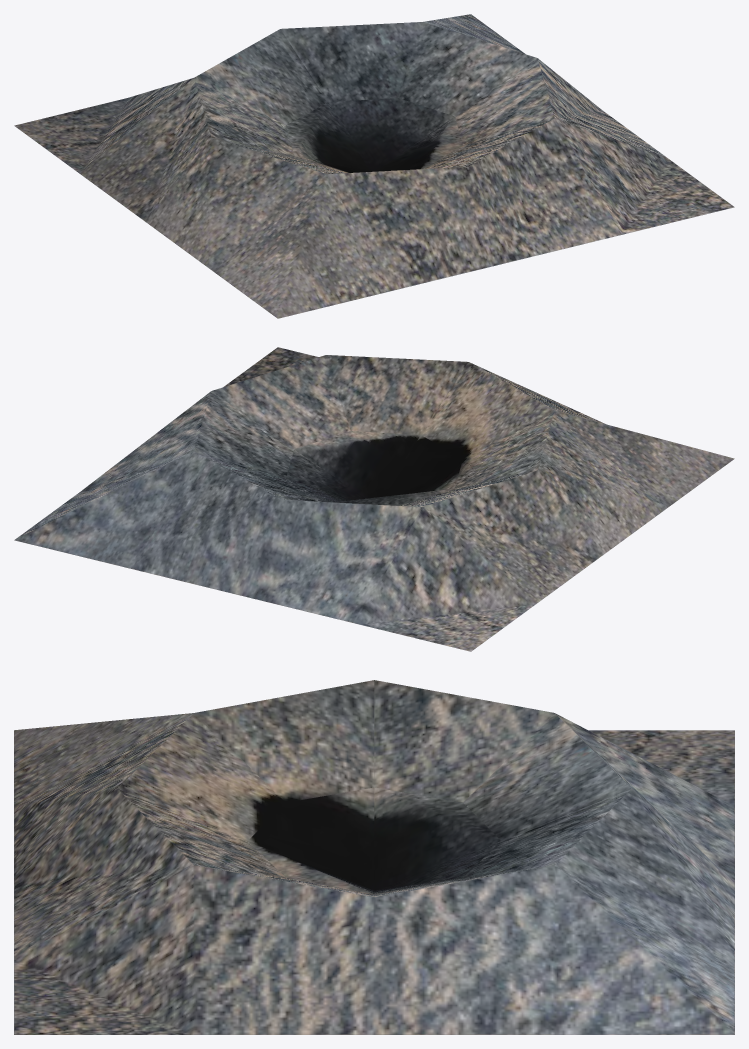
The model's file is trou jeyser.fbx.
The picture shows the model from 3 angles, top to bottom: view 1: azimuth 30°, elevation 25°; view 2: azimuth 150°, elevation 25°; view 3: azimuth 270°, elevation 25°; orthographic projection. The views are drawn at different scales.
Visible parts, largest first — view 1: Plane; view 2: Plane; view 3: Plane.
Boxes of the visible parts, bbox=[...] form: Plane: bbox=[14, 14, 734, 318]; Plane: bbox=[14, 347, 734, 651]; Plane: bbox=[14, 680, 734, 1034].
Bounding box in the file's own units: 32 × 4.93 × 32.
